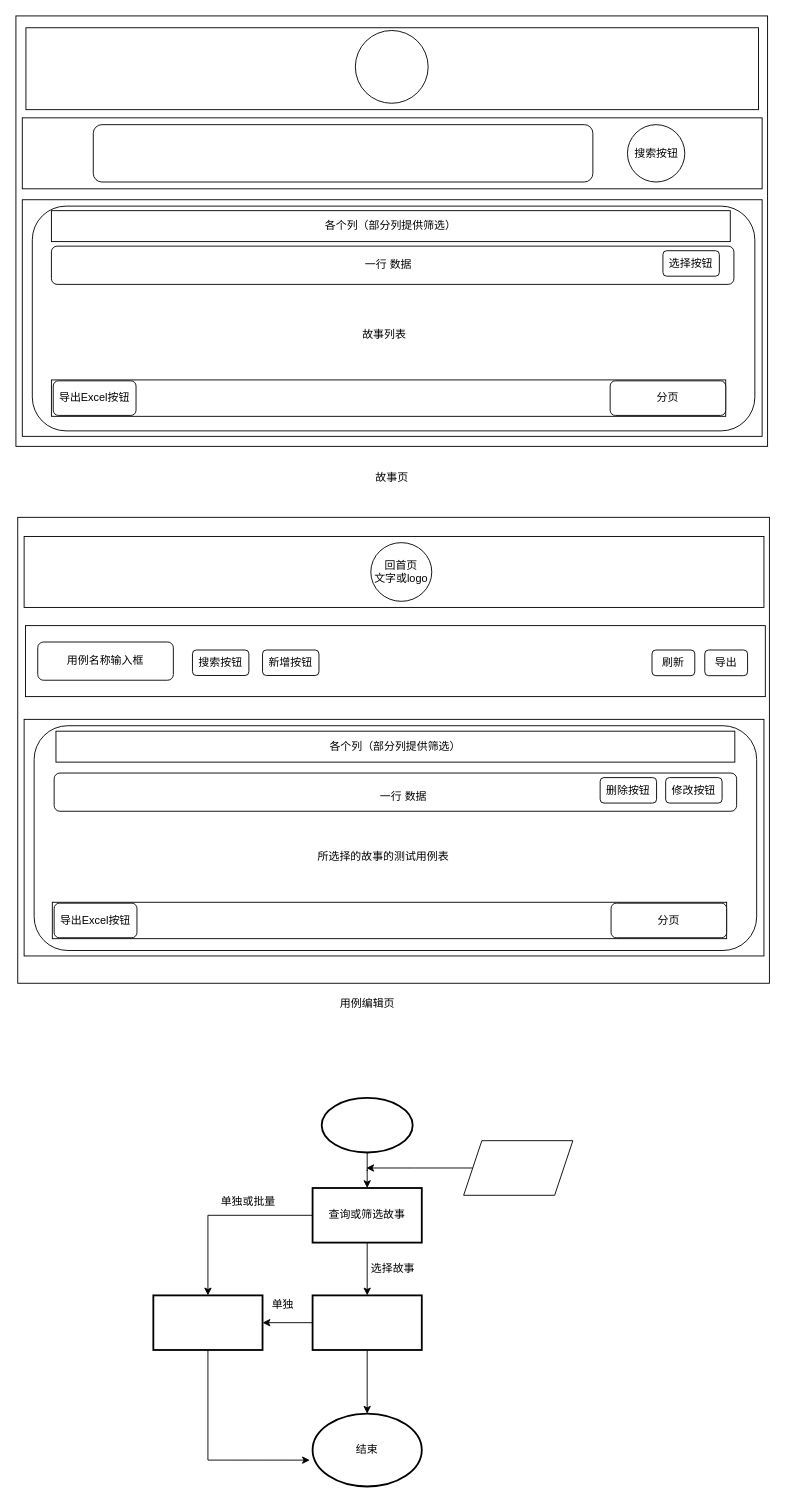
Image size: 785x1503. Some labels were removed from this diagram. Each missing label, with the centre of its shape:
"增删改查该故事的 测试用例" goes at (x=366, y=1322).
"导出交测报告" goes at (x=207, y=1322).
"开始" goes at (x=366, y=1125).
"故事名称输入框" goes at (x=342, y=153).
"系统名或logo" goes at (x=391, y=66).
"默认展示本团队 的所有故事" goes at (x=518, y=1167).
